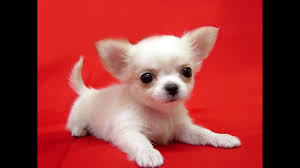chihuahua: (67, 26, 242, 165)
